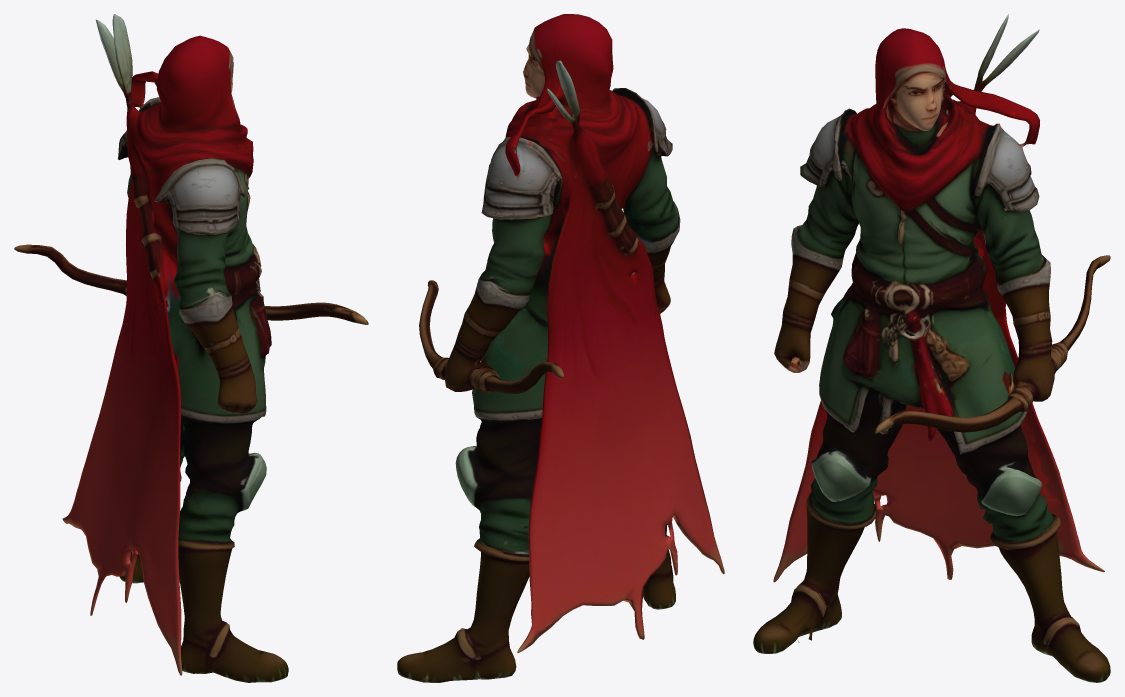
File: DiegoF.fbx
3 views of the same model, side by side, from view 1: azimuth 30°, elevation 25°; view 2: azimuth 150°, elevation 25°; view 3: azimuth 270°, elevation 25° (orthographic). The views are drawn at different scales.
Parts seen in each view (by area): view 1: tripo_node_85b14a4e; view 2: tripo_node_85b14a4e; view 3: tripo_node_85b14a4e.
Boxes of the visible parts, box(x1,y1,x2,y2) form: tripo_node_85b14a4e: box(14, 14, 368, 682); tripo_node_85b14a4e: box(397, 14, 724, 682); tripo_node_85b14a4e: box(753, 14, 1110, 682).
Size of the model in its own units: 0.4296 by 0.9965 by 0.5252.
Materials: 1 (1 with a texture image).
